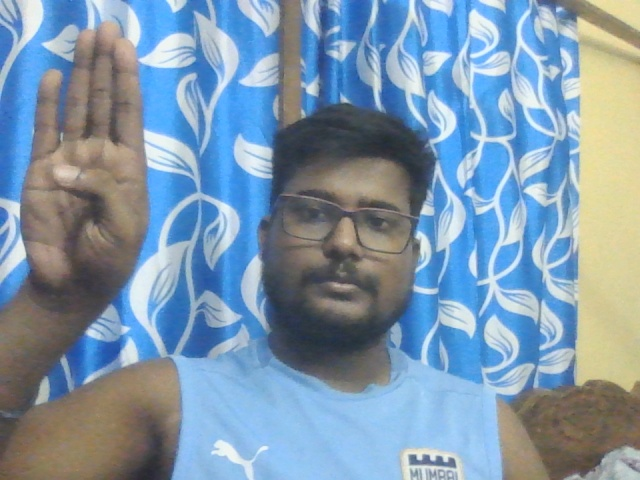B: (20, 22, 150, 290)
